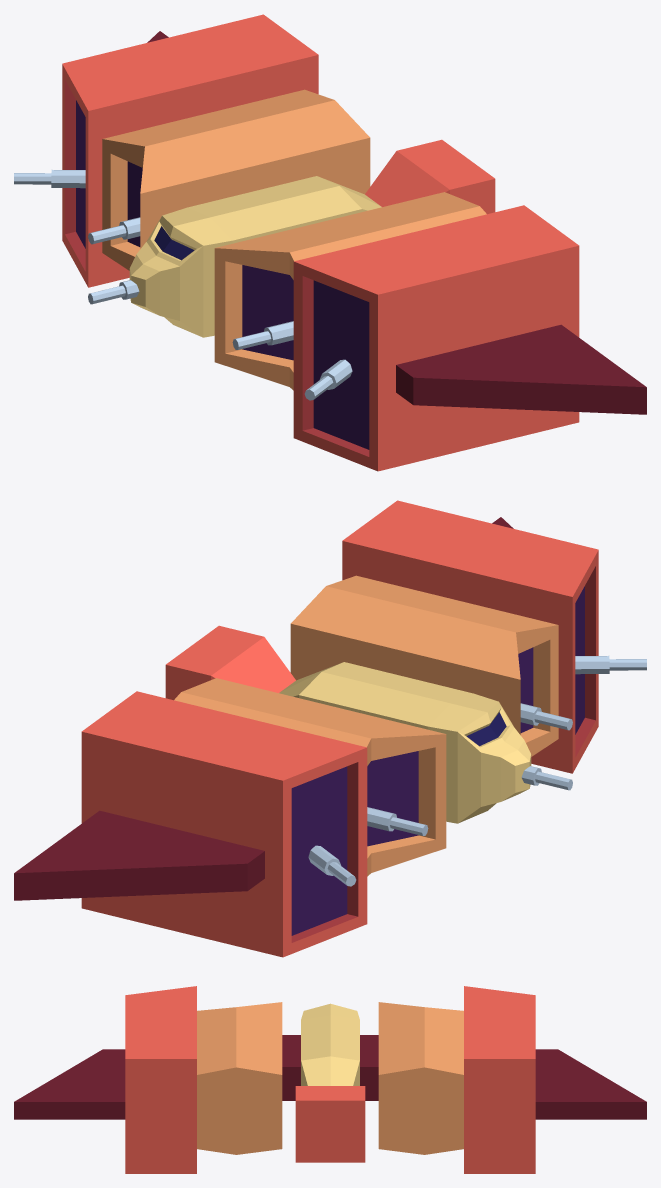
Rendered from Eagle.fbx.
The picture shows the model from 3 angles, top to bottom: view 1: azimuth 30°, elevation 25°; view 2: azimuth 150°, elevation 25°; view 3: azimuth 270°, elevation 25°; orthographic projection. The views are drawn at different scales.
Visible parts, largest first — view 1: boss; view 2: boss; view 3: boss.
Part boxes in pixels (left/top/right/bottom): boss: left=14, top=14, right=646, bottom=471; boss: left=14, top=500, right=646, bottom=957; boss: left=14, top=986, right=646, bottom=1173.
Bounding box in the file's own units: 1051 × 469 × 2344.
